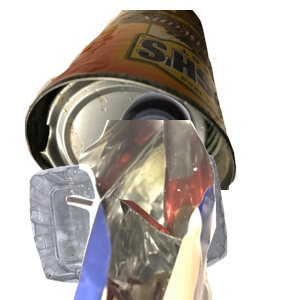glass: (115, 90, 300, 270)
metal: (22, 10, 251, 190)
plastic: (27, 152, 247, 300)
trash: (63, 120, 300, 300)
